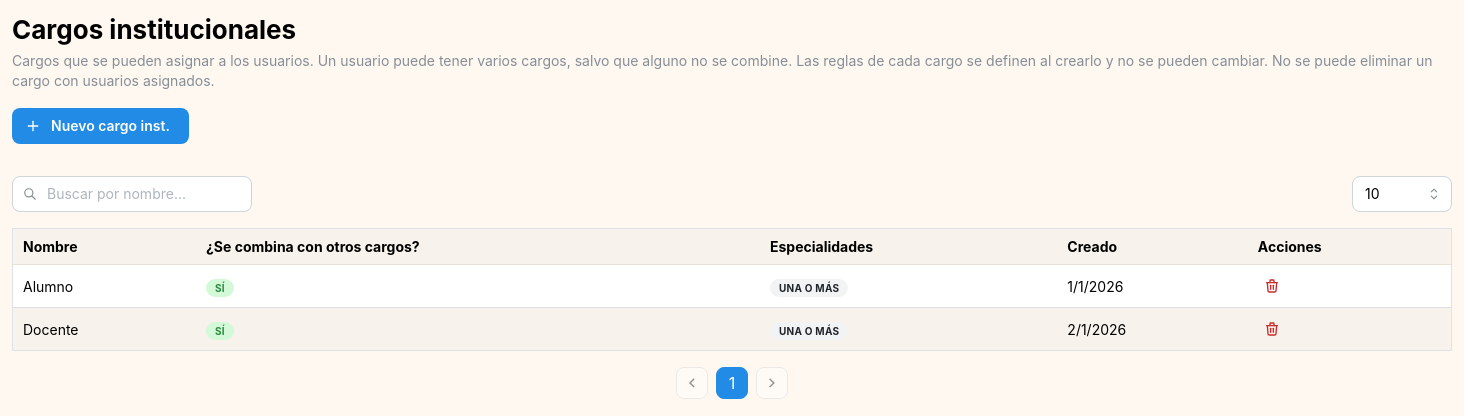
Test: RolesPage › debería listar roles institucionales y filtrar por nombre
Check: the text "Alumno" is shown, box [12,265,196,308]
Check: the text "Docente" is shown, box [12,308,196,351]
Type "Doc" into the field with placeholder "Buscar por nombre...".
click(132, 194); type("Doc")  # box [12,176,252,212]
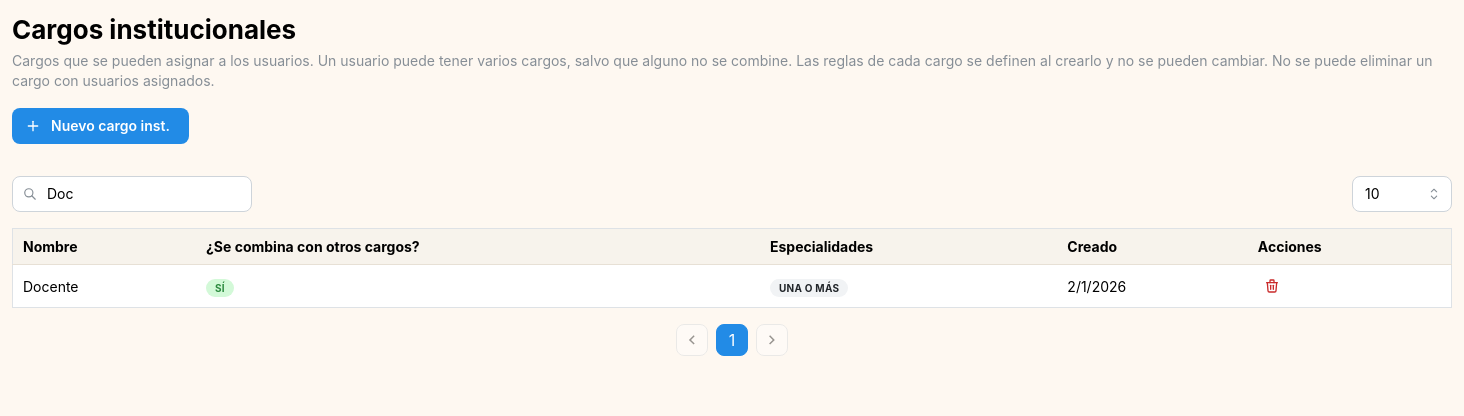
Check: the text "Docente" is shown, box [12,265,196,308]
Check: the text "Alumno" is gone
